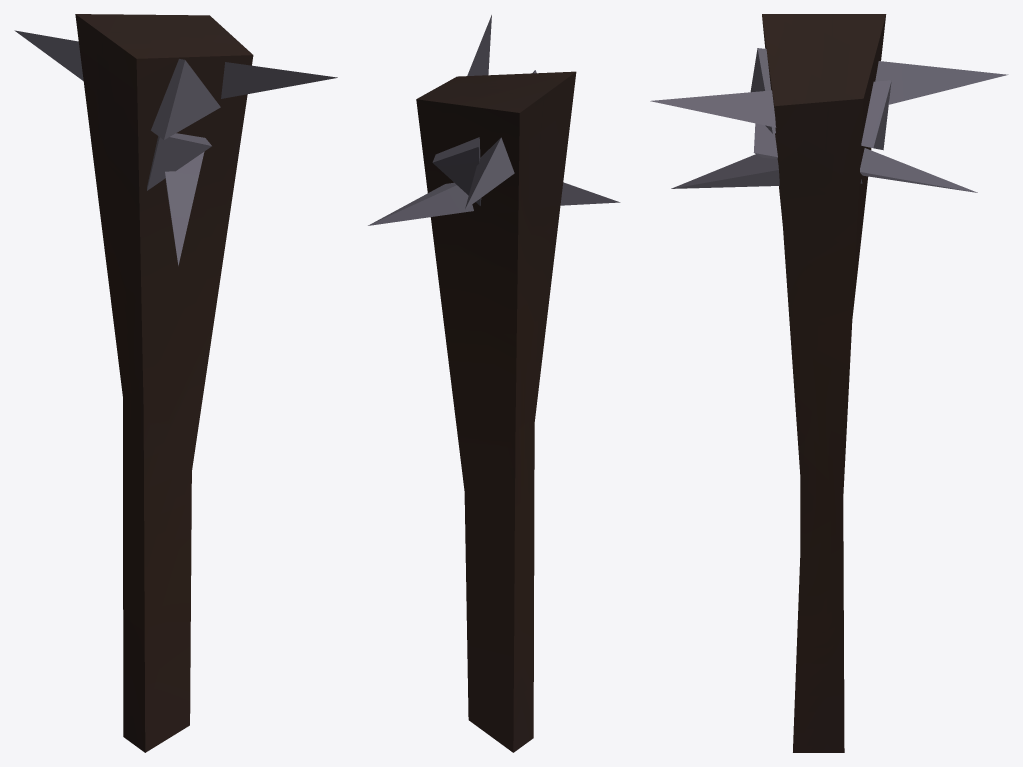
Rendered from w_club.FBX.
3 views of the same model, side by side, from view 1: azimuth 30°, elevation 25°; view 2: azimuth 150°, elevation 25°; view 3: azimuth 270°, elevation 25° (orthographic). The views are drawn at different scales.
Visible parts, largest first — view 1: w_club; view 2: w_club; view 3: w_club.
Boxes of the visible parts, box(x1,y1,x2,y2) form: w_club: box(14, 14, 337, 752); w_club: box(368, 15, 620, 752); w_club: box(650, 14, 1008, 752).
Size of the model in its own units: 9.44 by 42.97 by 19.3.
1 material, 1 textured.
